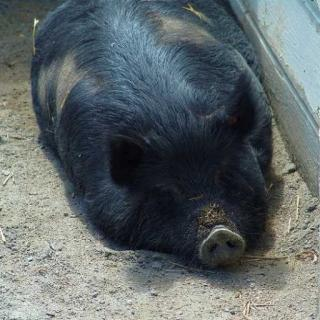Pig: (0, 0, 288, 289)
